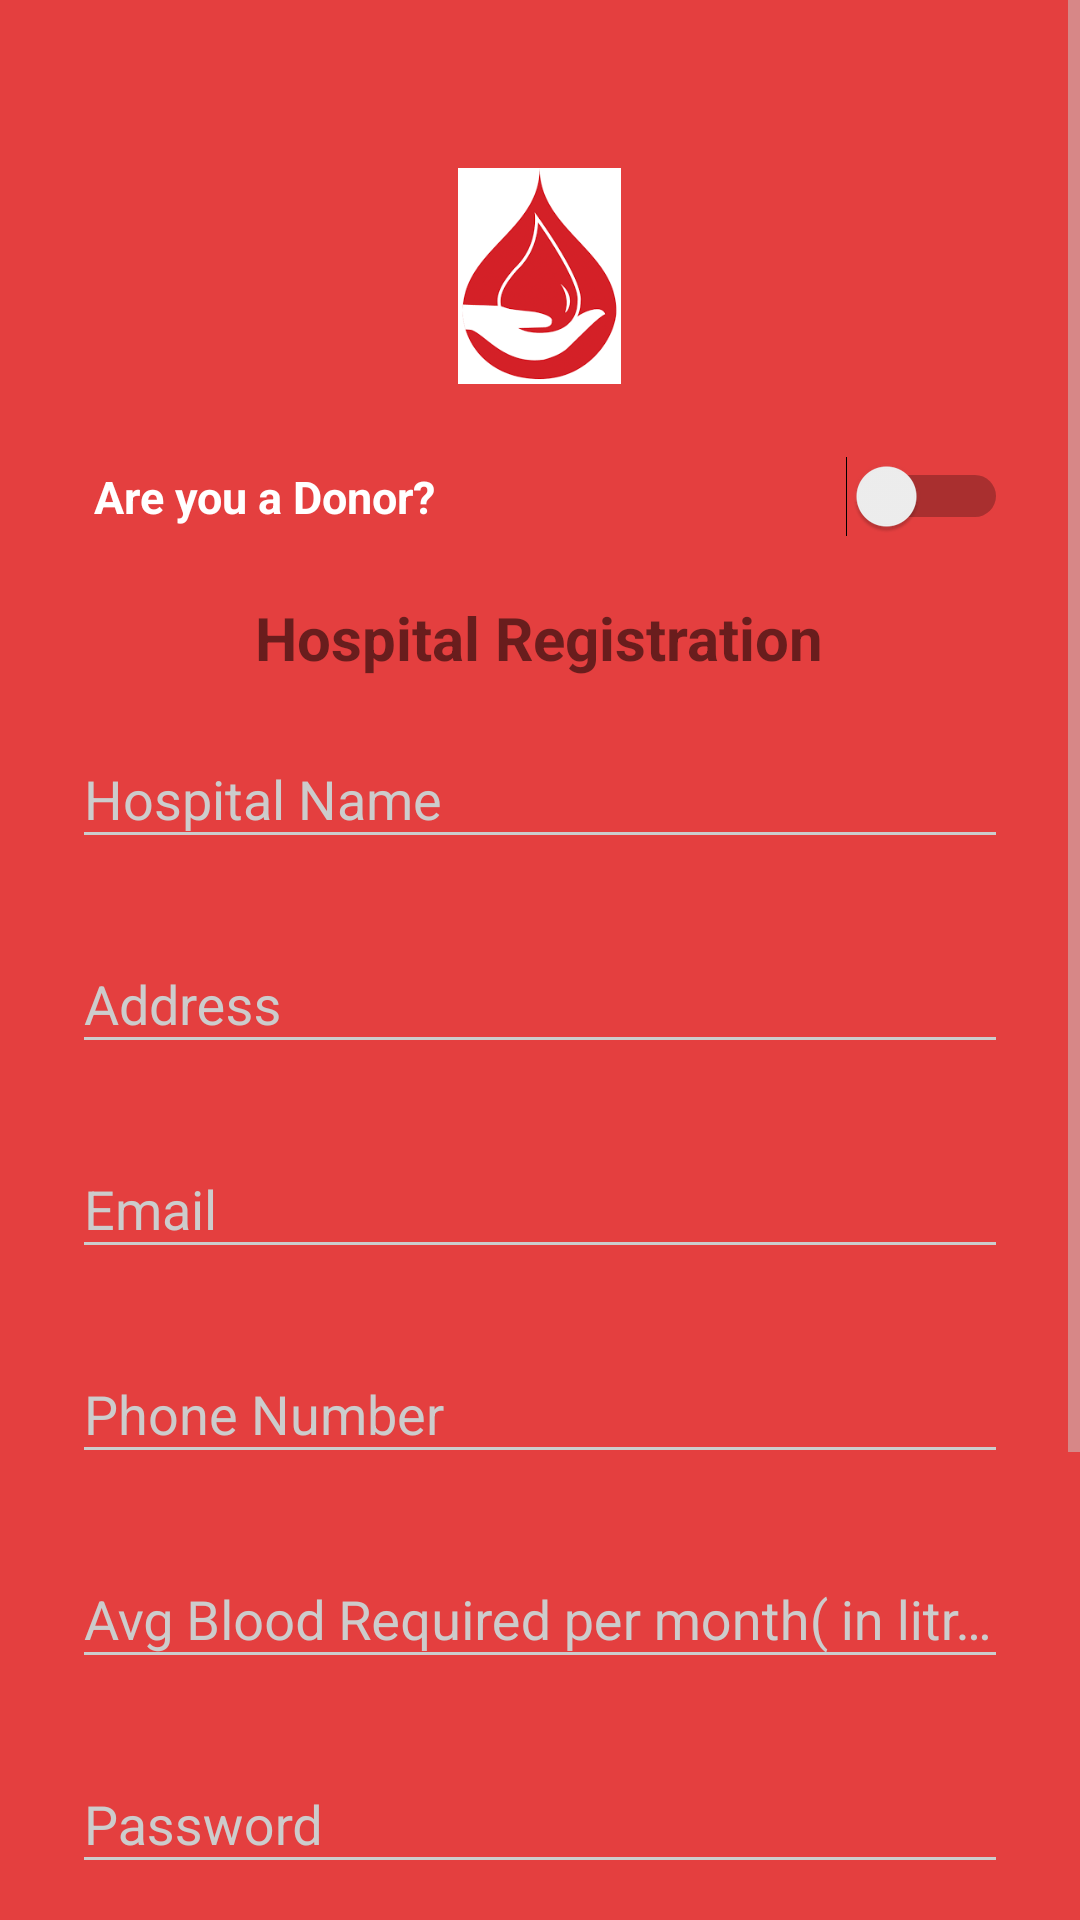

Where icons sit on this 1080x1920 app screen, as (x1, y1, x2, y2):
blooddrop: (458, 168, 621, 384)
